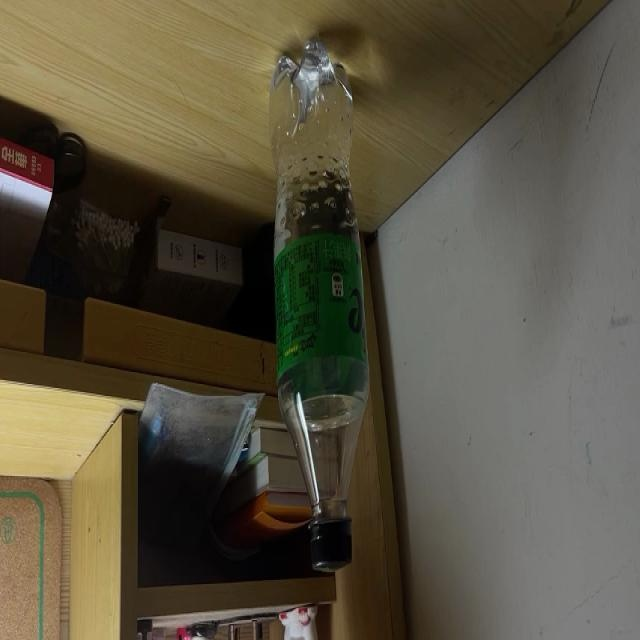Sprite: (267, 41, 371, 572)
